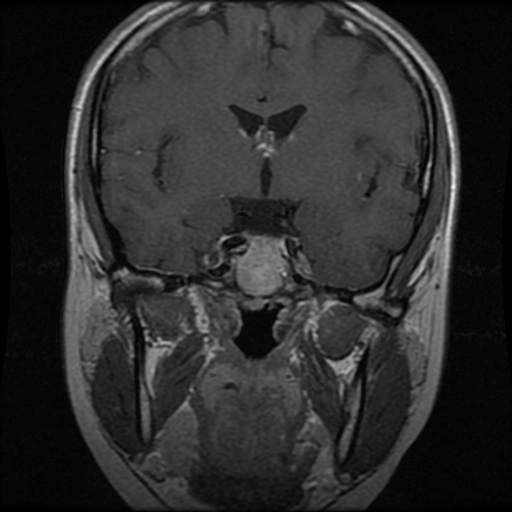pituitary: (236, 234, 289, 295)
